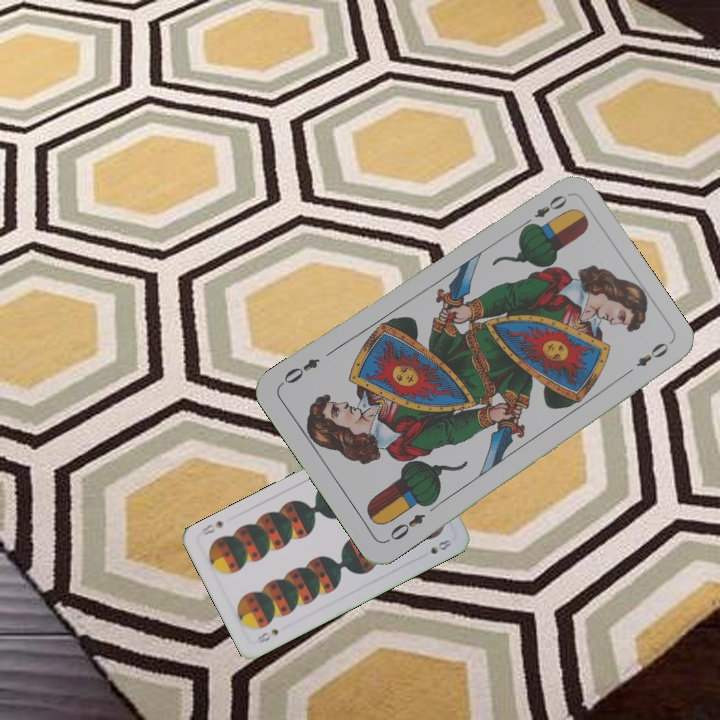EO: (518, 190, 570, 231), (382, 509, 428, 545)
S8: (254, 624, 281, 646)
